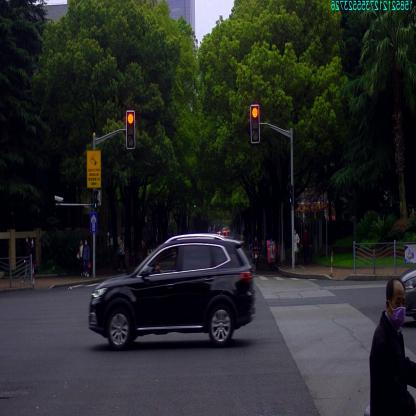traffic-light: (127, 111, 135, 148), (252, 106, 260, 142)
